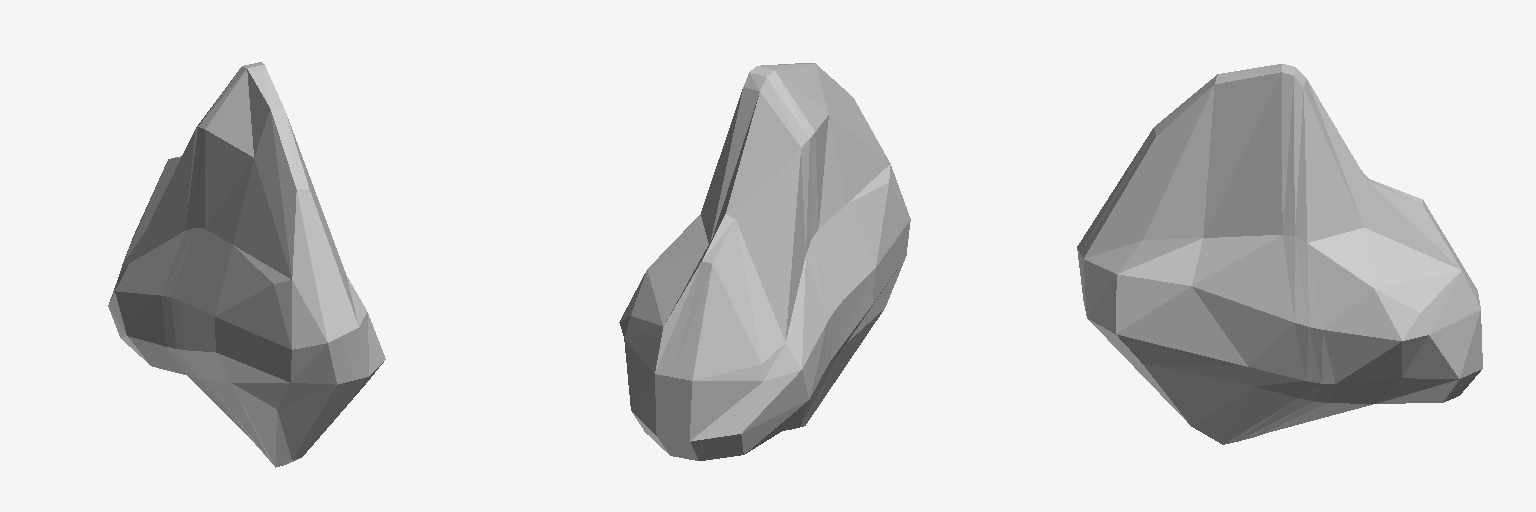
The model's file is monolith_04.obj.
The picture shows the model from 3 angles: view 1: azimuth 30°, elevation 25°; view 2: azimuth 150°, elevation 25°; view 3: azimuth 270°, elevation 25°; orthographic projection.
Parts seen in each view (by area): view 1: Cube_Cube; view 2: Cube_Cube; view 3: Cube_Cube.
Boxes of the visible parts, x1,y1,x2,y2 form: Cube_Cube: [108, 62, 385, 467]; Cube_Cube: [619, 63, 910, 460]; Cube_Cube: [1077, 64, 1482, 444].
Bounding box in the file's own units: 199 × 409 × 399.